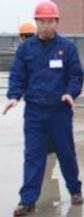boots: (13, 203, 34, 217), (70, 192, 83, 205)
hard-hat: (33, 0, 60, 18)
ppe-suit: (0, 0, 1, 1)
